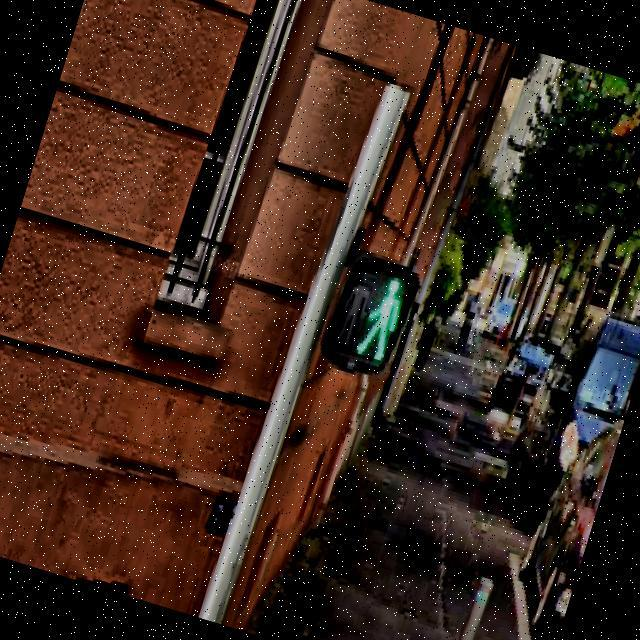green_light: (348, 262, 412, 364)
